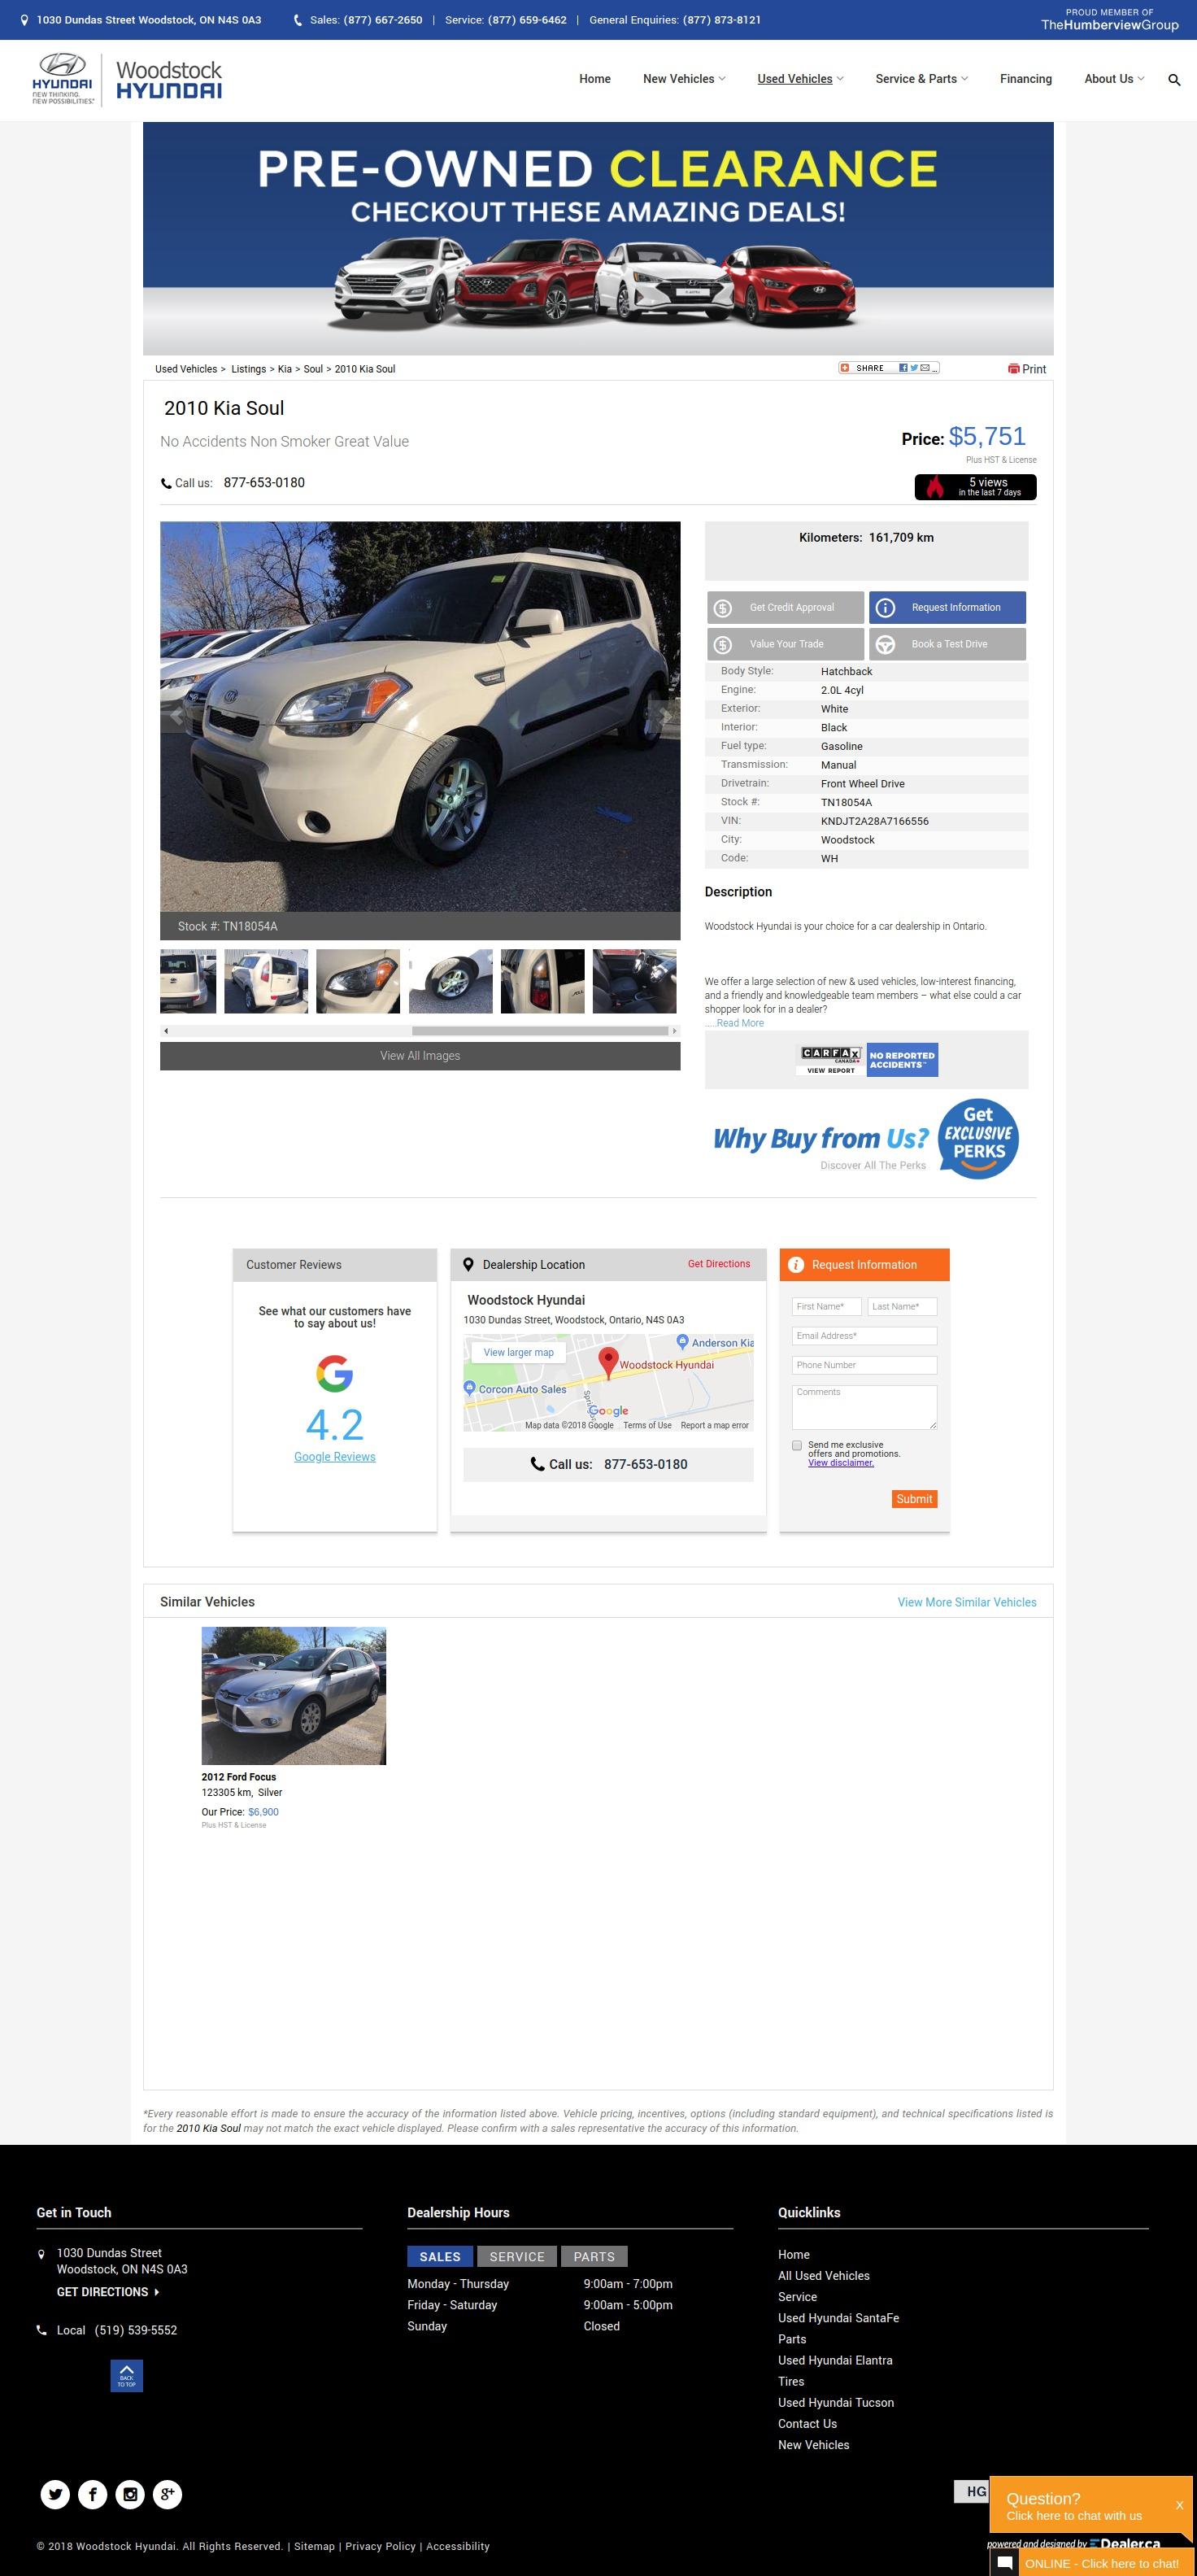car: (668, 1023, 683, 1038)
